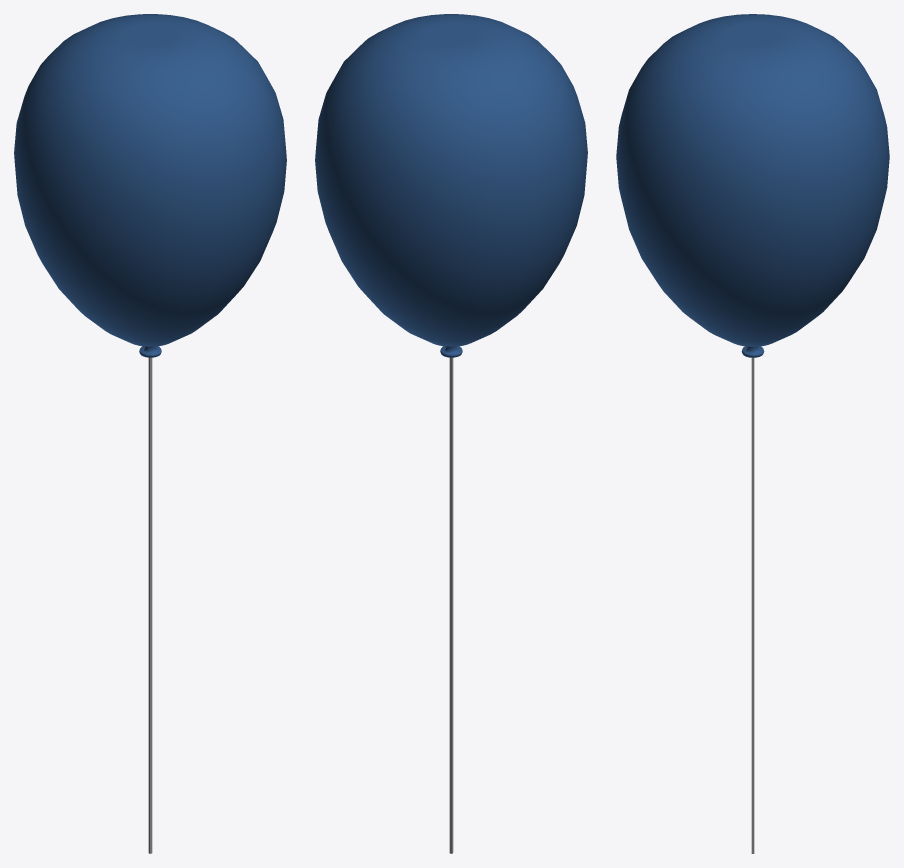
Rendered from globo.obj.
3 renders of one model, left to right at view 1: azimuth 30°, elevation 25°; view 2: azimuth 150°, elevation 25°; view 3: azimuth 270°, elevation 25°, orthographic.
Visible parts, largest first — view 1: Balloon_Sphere, Plane; view 2: Balloon_Sphere, Plane; view 3: Balloon_Sphere, Plane.
Boxes of the visible parts, <box> form: Balloon_Sphere: <box>14,14,286,357</box>; Plane: <box>148,357,152,853</box>; Balloon_Sphere: <box>315,14,587,357</box>; Plane: <box>449,357,453,853</box>; Balloon_Sphere: <box>616,14,889,357</box>; Plane: <box>751,357,754,853</box>.
Bounding box in the file's own units: 2 × 6.6 × 2.
2 materials, 1 textured.
